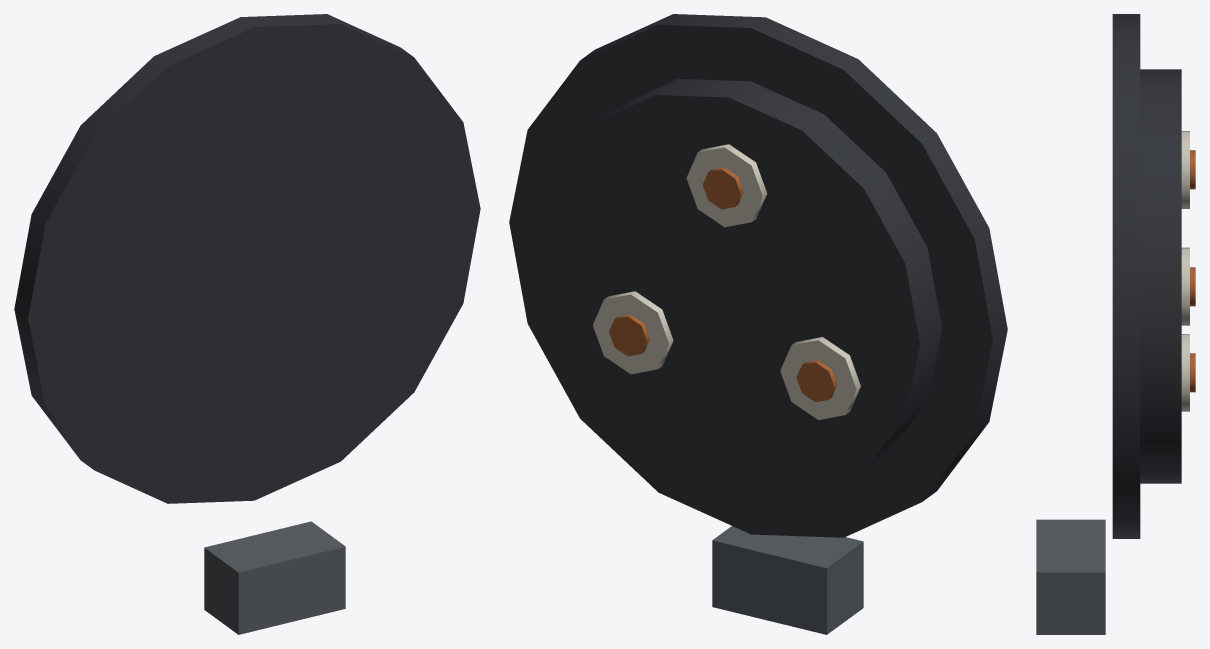
Rendered from sr150_bus_coupling.obj.
The picture shows the model from 3 angles, left to right: view 1: azimuth 30°, elevation 25°; view 2: azimuth 150°, elevation 25°; view 3: azimuth 270°, elevation 25°; orthographic projection. The views are drawn at different scales.
Visible parts, largest first — view 1: sr150_bus_coupling; view 2: sr150_bus_coupling; view 3: sr150_bus_coupling.
Part boxes in pixels (x1=…): sr150_bus_coupling: x1=14, y1=14, x2=480, y2=634; sr150_bus_coupling: x1=509, y1=14, x2=1007, y2=634; sr150_bus_coupling: x1=1036, y1=14, x2=1195, y2=634.
Bounding box in the file's own units: 0.76 × 0.91 × 0.23.
